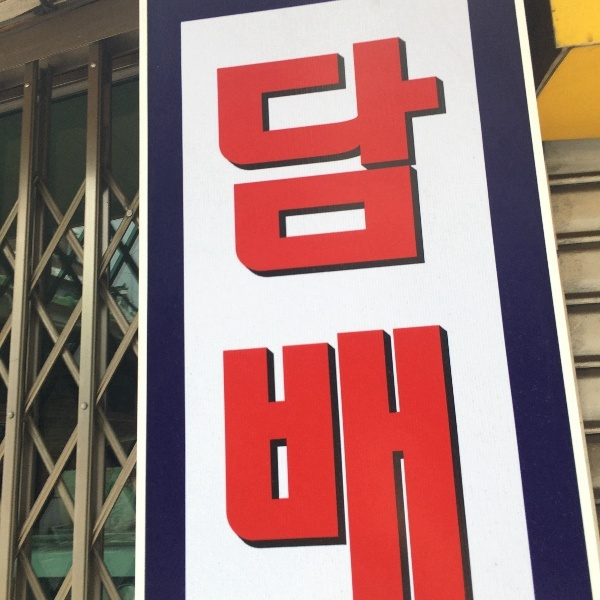text: (225, 31, 240, 599), (241, 31, 256, 599), (257, 31, 272, 599), (273, 31, 288, 599), (289, 31, 304, 599), (305, 31, 320, 599), (321, 31, 336, 599), (337, 31, 352, 599), (353, 31, 368, 599), (369, 31, 384, 599), (385, 31, 400, 599), (401, 31, 416, 599), (417, 31, 432, 599), (433, 31, 448, 599), (449, 31, 464, 599), (465, 31, 477, 599), (216, 31, 224, 599)
